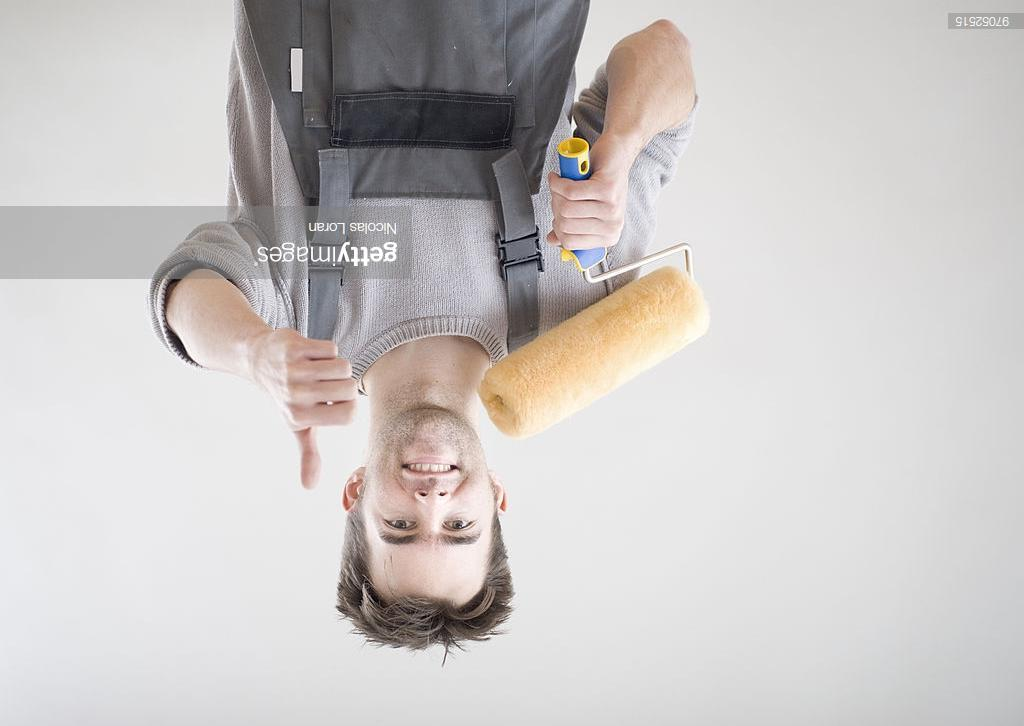thumbsdown: (285, 338, 359, 491)
